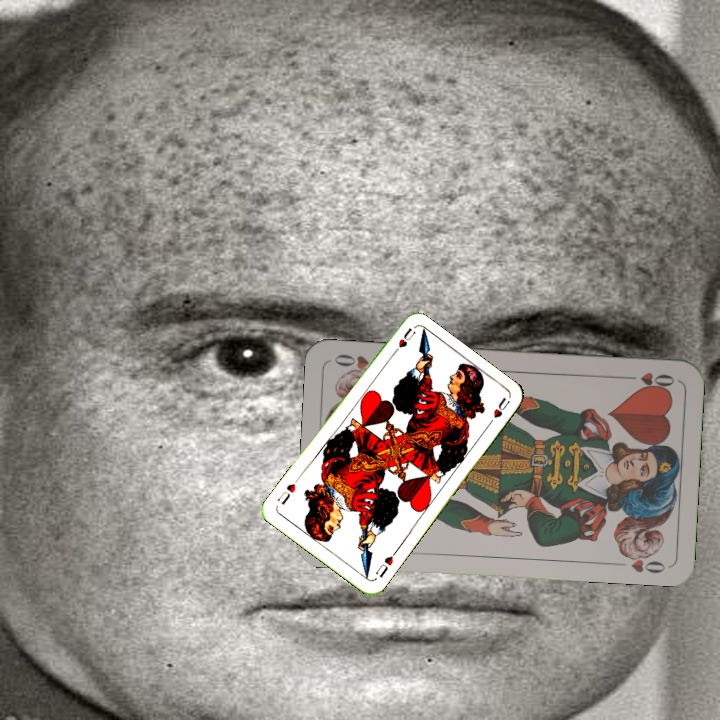HO: (619, 368, 677, 392)
HU: (387, 323, 418, 359), (371, 552, 396, 580)
